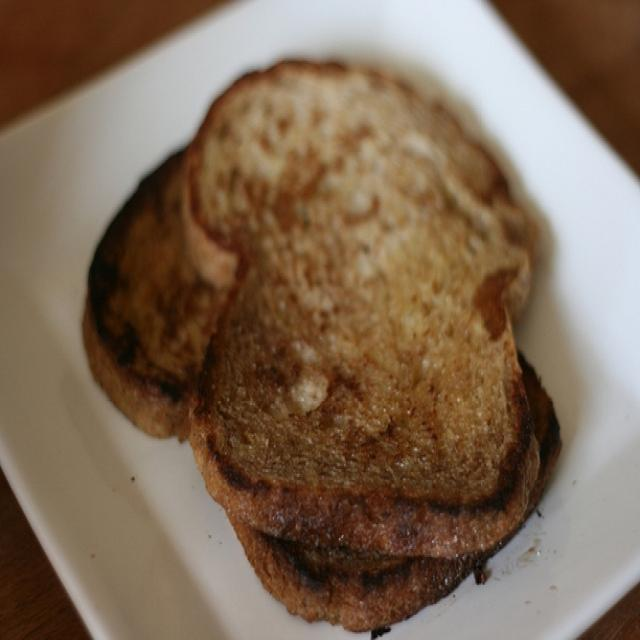面包点心: (27, 8, 614, 630)
